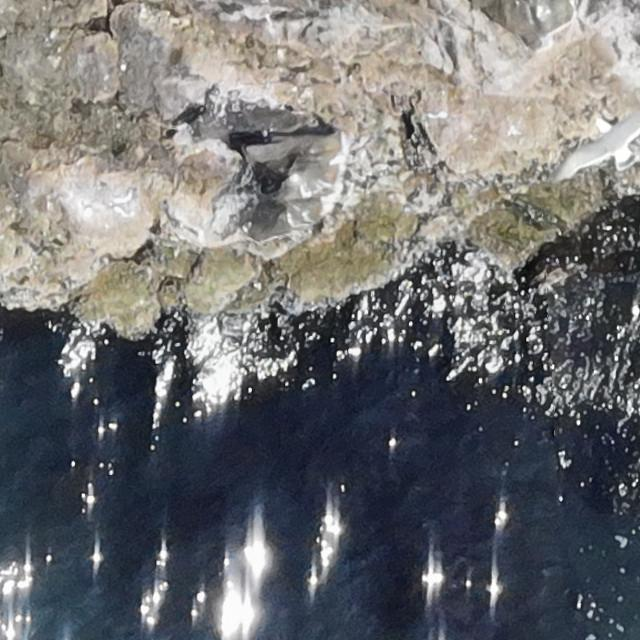F: (560, 114, 637, 178)
